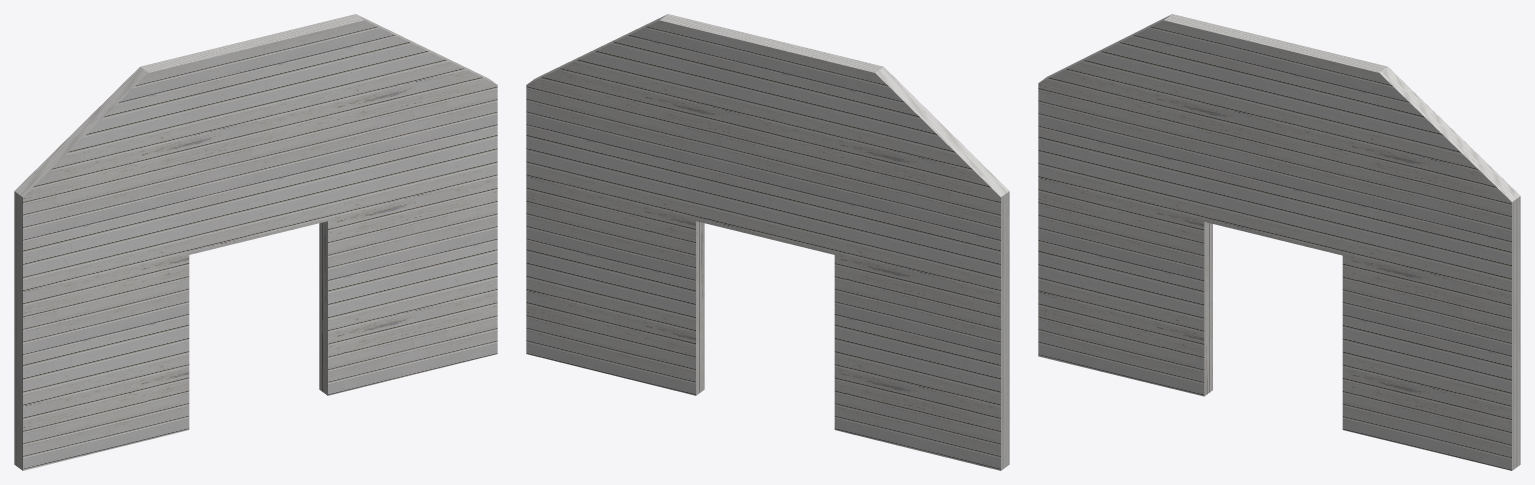
File: Wall 4.FBX
3 views of the same model, side by side, from view 1: azimuth 30°, elevation 25°; view 2: azimuth 150°, elevation 25°; view 3: azimuth 330°, elevation 25° (orthographic).
Visible parts, largest first — view 1: wall 4; view 2: wall 4; view 3: wall 4.
Boxes of the visible parts, <box> form: wall 4: <box>14,14,497,470</box>; wall 4: <box>526,14,1009,470</box>; wall 4: <box>1038,14,1520,470</box>.
Bounding box in the file's own units: 743 × 549 × 23.5.
1 material, 1 textured.
